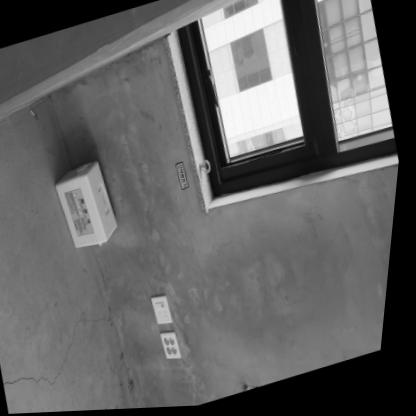DDL: (49, 156, 131, 258)
